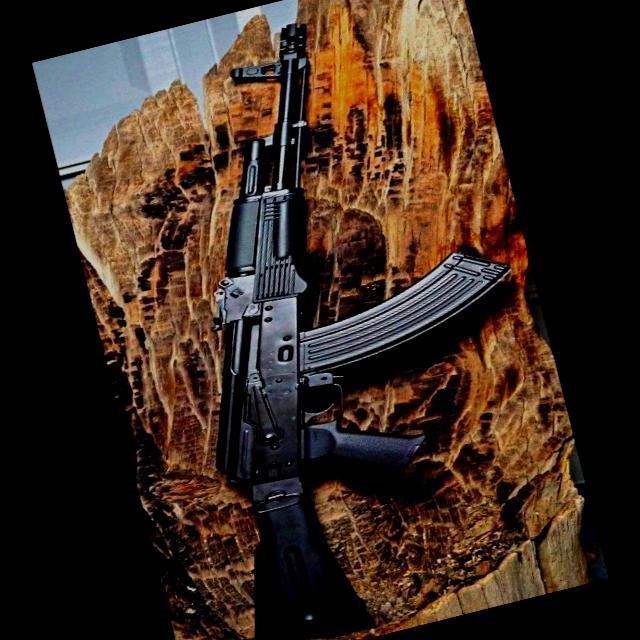ak: (67, 0, 595, 640)
